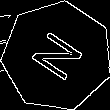N_SE: (24, 25, 89, 87)
